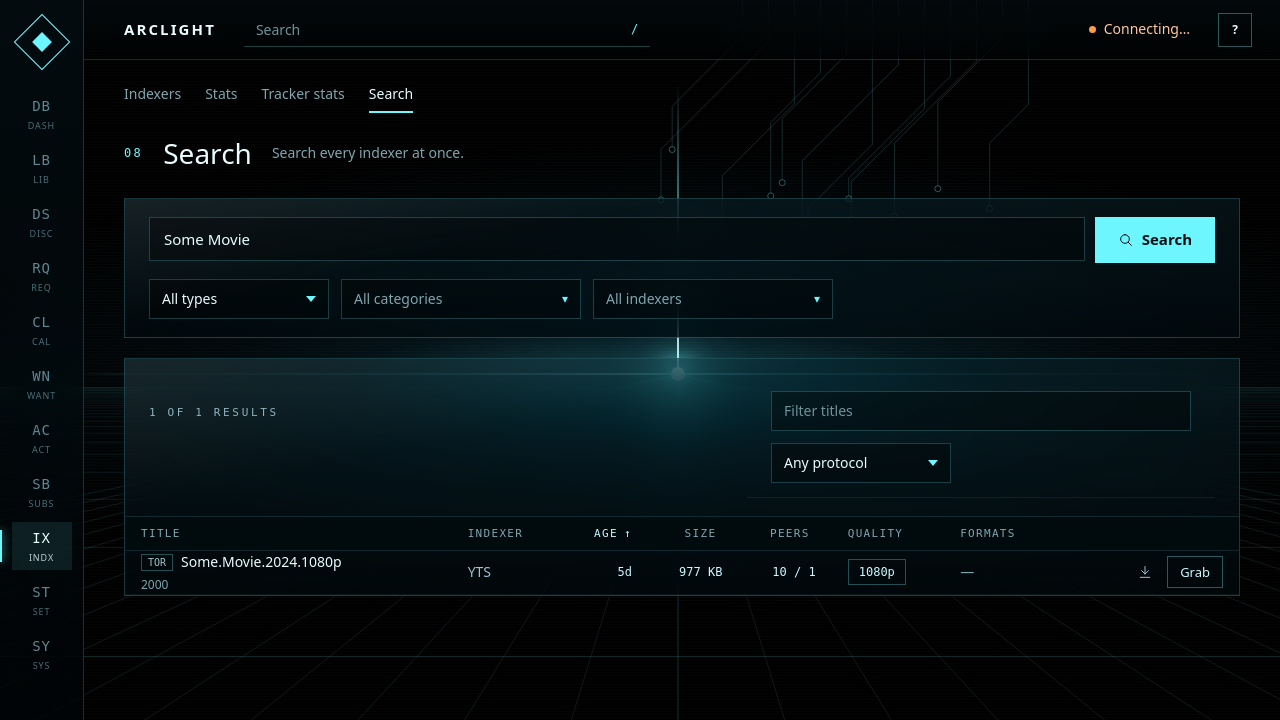
Scenario: search page grabs › links downloads through the indexer and asks before force-grabbing an unmatched result
This screenshot has width=1280, height=720.
What coordinates should you click on to do the following:
click the button "Grab"
I would click on:
 (1195, 572)
Its box is [1167,556,1223,588].
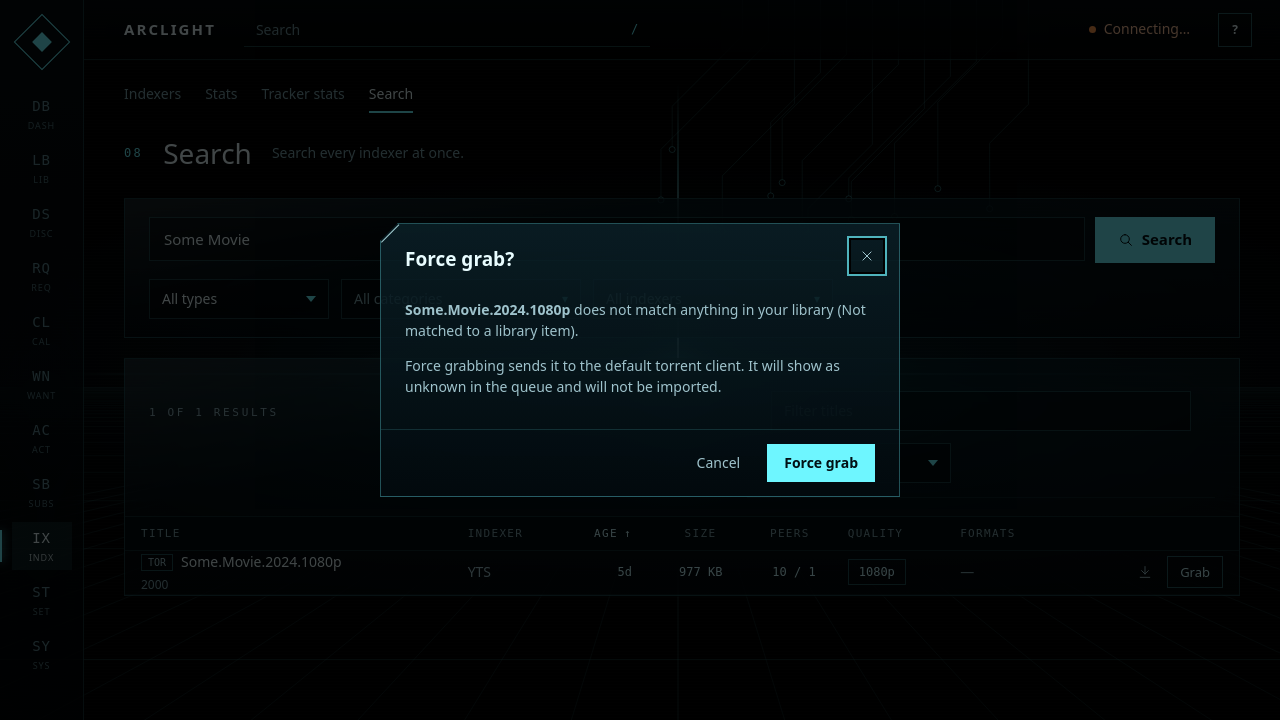
Check: the text "does not match anything in your library" is shown, box [405,300,866,340]
What coordinates should you click on to do the following:
click the button "Force grab"
I would click on:
 (821, 463)
Its box is [767,444,875,482].
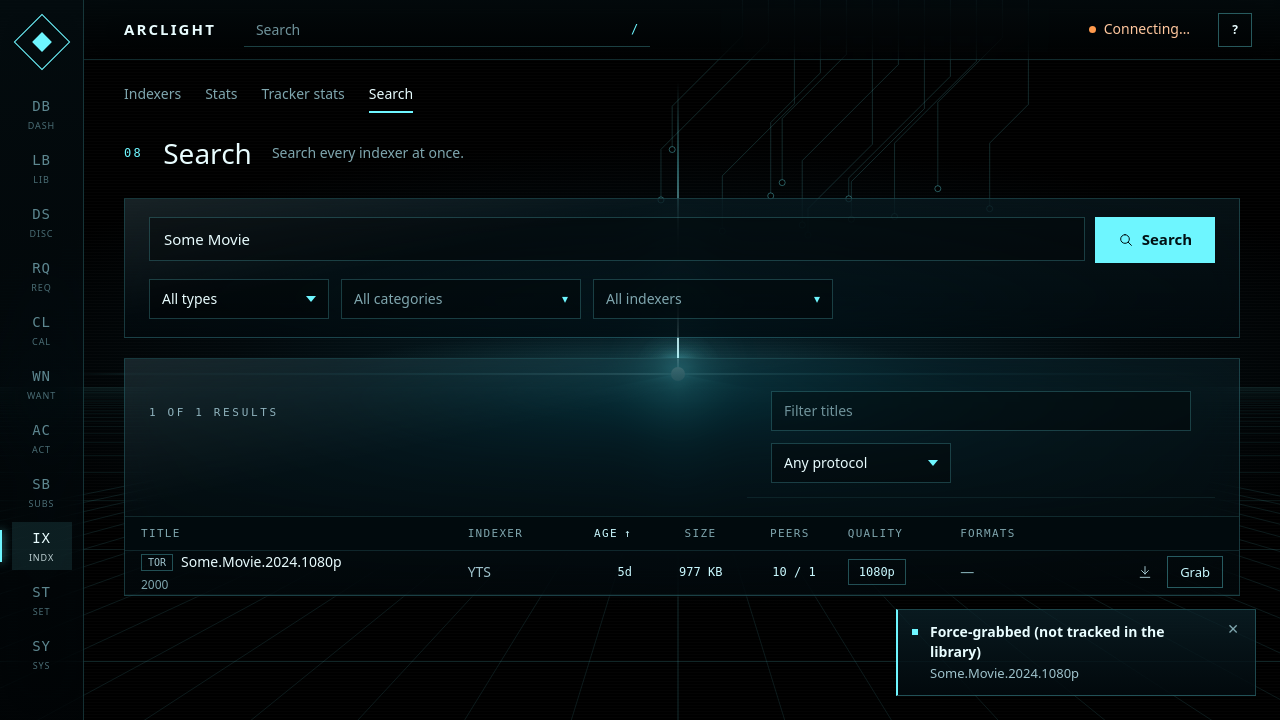
Check: the heading "Force grab?" is gone
